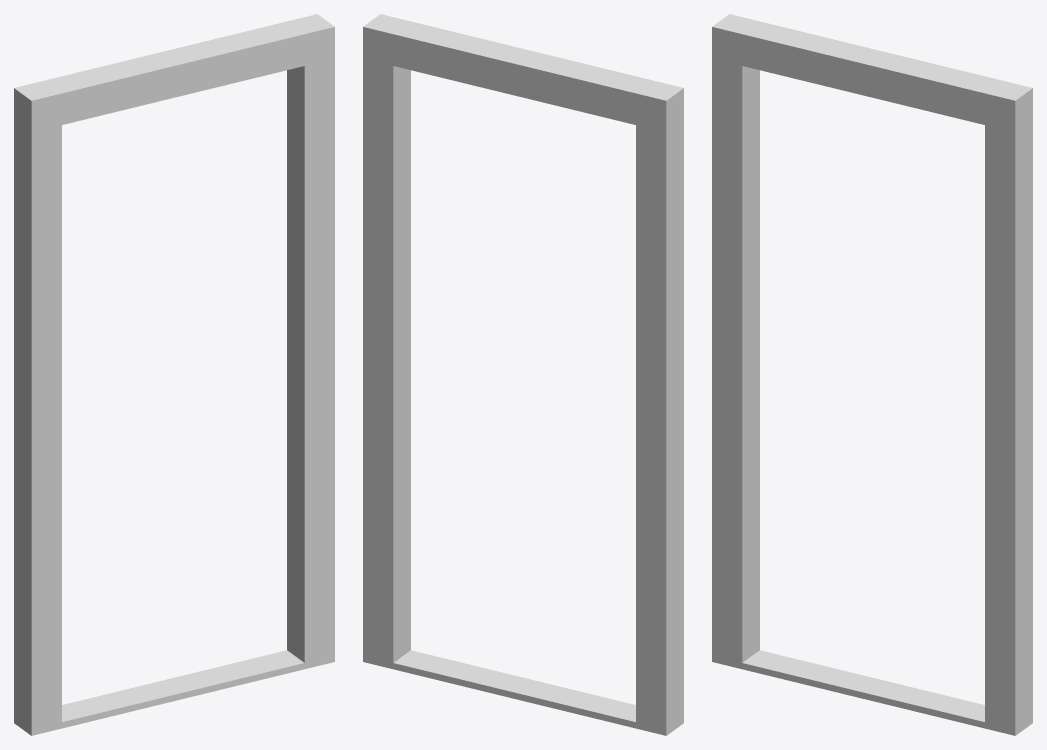
Rendered from PlainDoorframe.glb.
3 views of the same model, side by side, from view 1: azimuth 30°, elevation 25°; view 2: azimuth 150°, elevation 25°; view 3: azimuth 330°, elevation 25° (orthographic).
Visible parts, largest first — view 1: PlainDoorframe; view 2: PlainDoorframe; view 3: PlainDoorframe.
Boxes of the visible parts, bbox=[...] form: PlainDoorframe: bbox=[14, 14, 334, 735]; PlainDoorframe: bbox=[363, 14, 683, 735]; PlainDoorframe: bbox=[712, 14, 1032, 735].
Size of the model in its own units: 1 by 2 by 0.1.
1 material, 1 textured.
